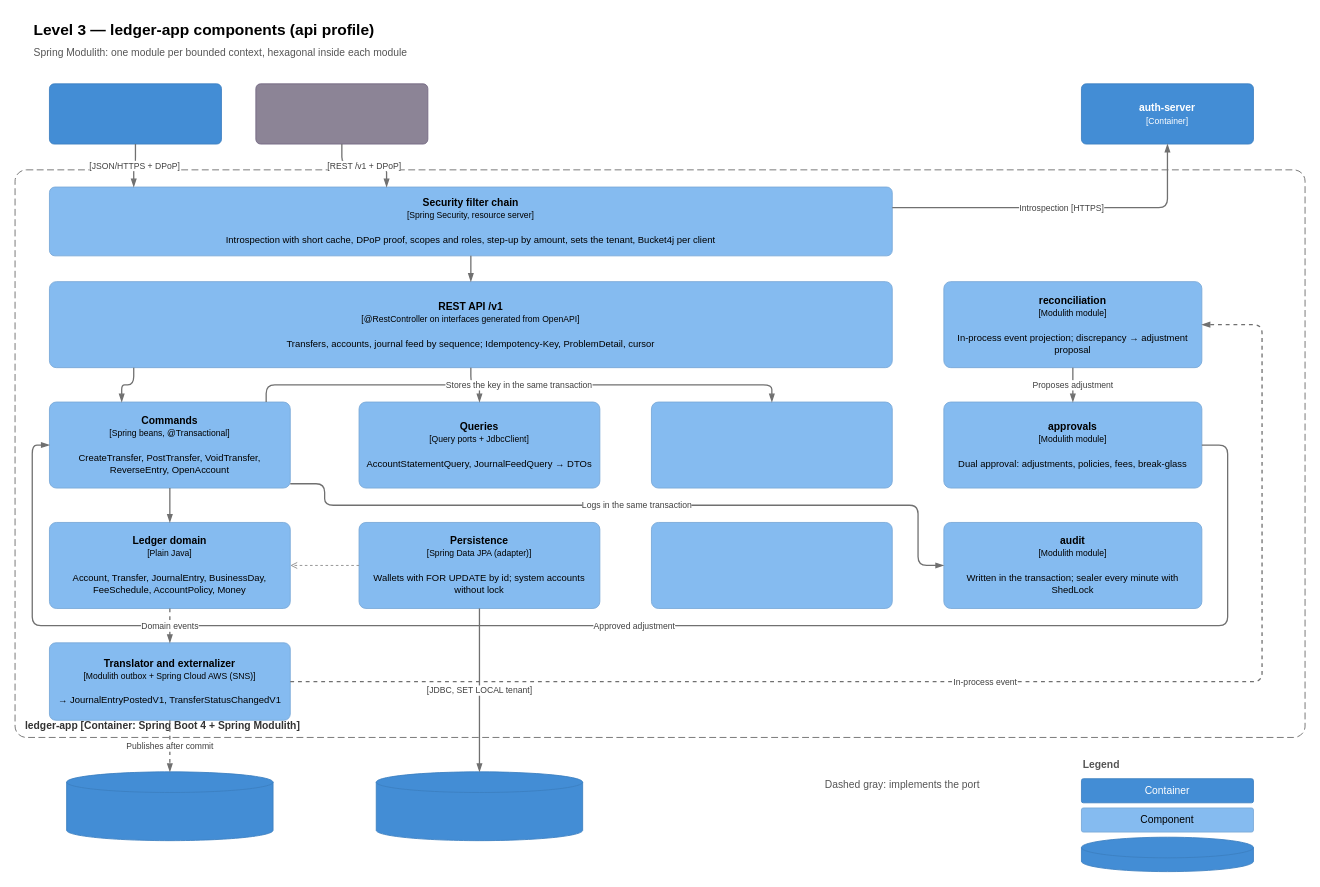
The diagram is 1320 pixels wide and 887 high, and some of its shapes have lost their labels. The shapes that lost their labels are listed below. From the top down, each one's box as (x1, y1, x2, y2) in pixels, then its label:
(49, 83, 221, 144): console-bff [Container]
(255, 83, 428, 144): Fintech system [External system]
(651, 401, 892, 488): Idempotency [Component + table] Key, body hash and response
(651, 522, 892, 608): Hold expiration [@Scheduled + ShedLock] Moves expired holds to EXPIRED
(66, 771, 273, 841): ledger-events.fifo [SNS FIFO]
(375, 771, 583, 841): Ledger [PostgreSQL + RLS]
(1081, 836, 1253, 872): Database / queue
